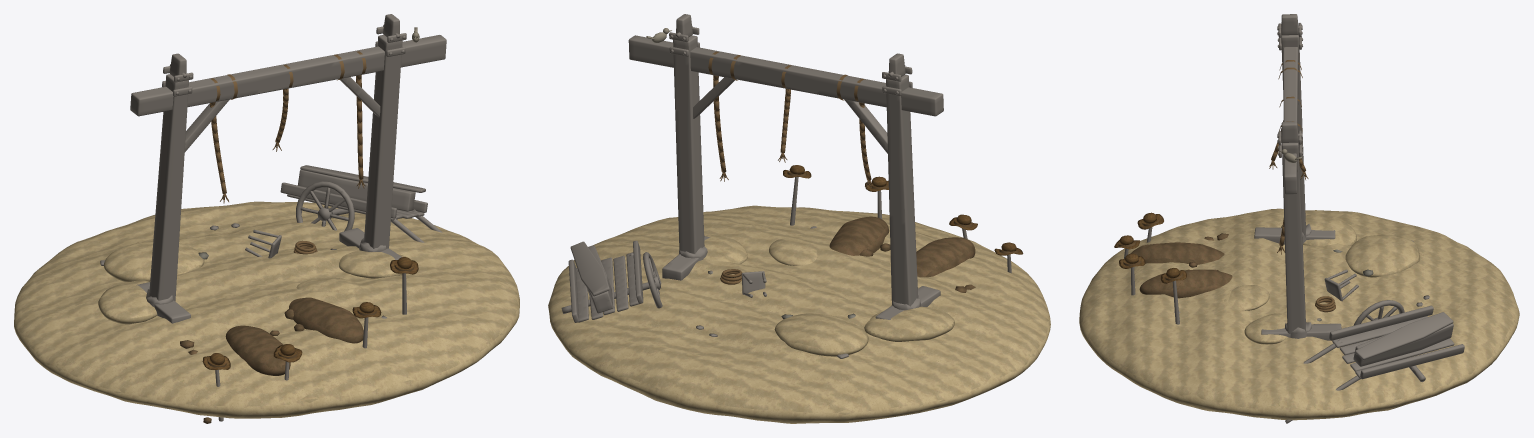
File: gallows.glb
The picture shows the model from 3 angles, left to right: view 1: azimuth 30°, elevation 25°; view 2: azimuth 150°, elevation 25°; view 3: azimuth 270°, elevation 25°; orthographic projection. The views are drawn at different scales.
Visible parts, largest first — view 1: gallows; view 2: gallows; view 3: gallows.
Boxes of the visible parts, <box> form: gallows: <box>14,14,519,423</box>; gallows: <box>548,14,1050,423</box>; gallows: <box>1079,14,1519,423</box>.
Bounding box in the file's own units: 7.97 × 5.35 × 7.35.
Materials: 7 (7 with a texture image).
